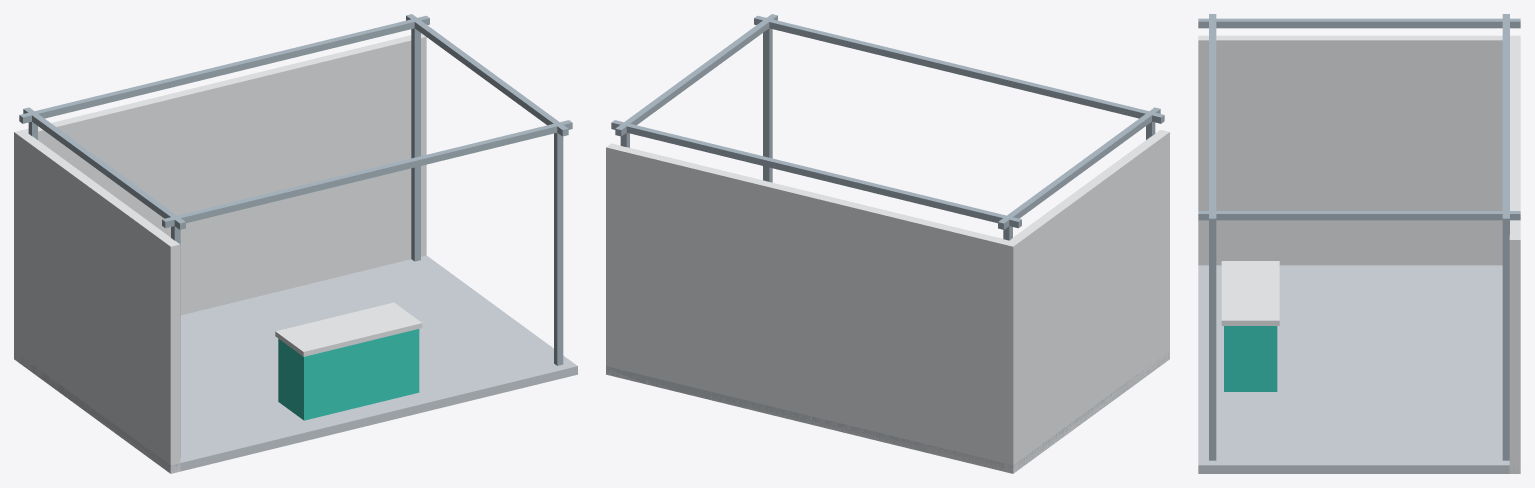
The picture shows the model from 3 angles, left to right: view 1: azimuth 30°, elevation 25°; view 2: azimuth 150°, elevation 25°; view 3: azimuth 270°, elevation 25°; orthographic projection. The views are drawn at different scales.
Visible parts, largest first — view 1: Exhibition Booth Concept; view 2: Exhibition Booth Concept; view 3: Exhibition Booth Concept.
Part boxes in pixels (<box>): Exhibition Booth Concept: <box>14,14,577,473</box>; Exhibition Booth Concept: <box>606,14,1169,473</box>; Exhibition Booth Concept: <box>1198,14,1520,473</box>.
Bounding box in the file's own units: 6 × 3.49 × 4.
